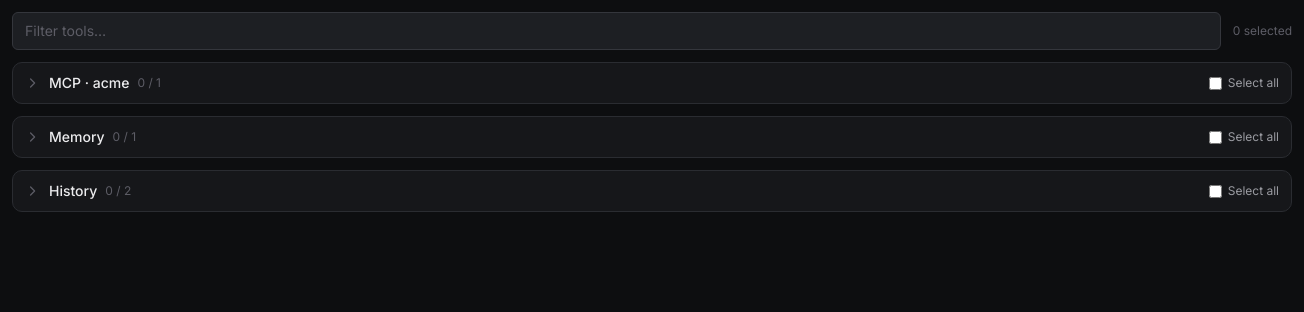
Scenario: ToolPicker › groups start collapsed; expanding reveals the humanized tool + description
The width and height of the screenshot is (1304, 312).
Expected: the text "Search the index." is not shown
Click the text "MCP · acme" at (89, 83), box [49, 73, 129, 93]
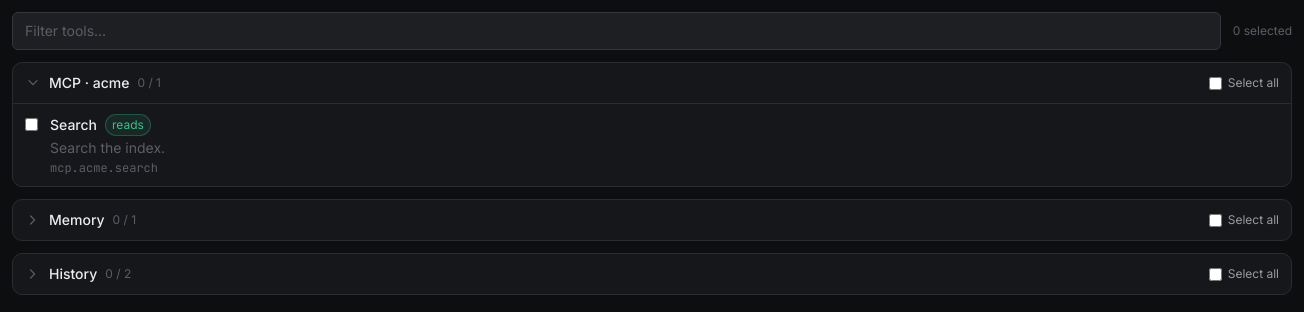
Result: the text "Search" is shown at [50, 115, 97, 135]
Result: the text "Search the index." is shown at [50, 139, 165, 156]
